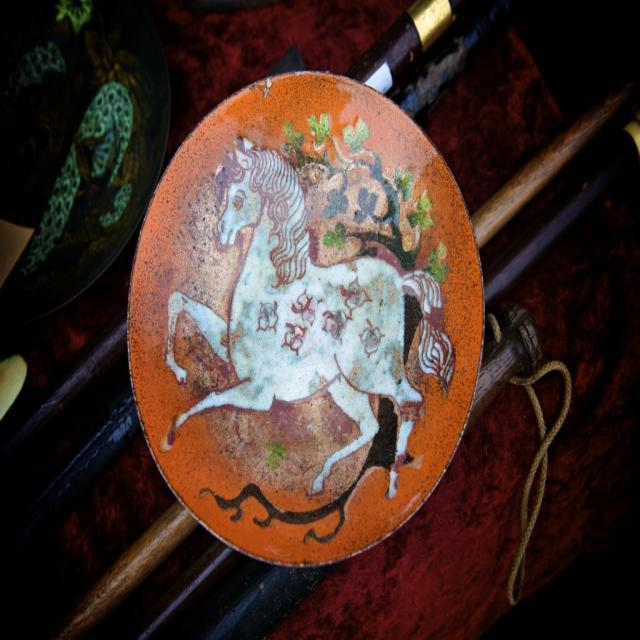ceramic plate: (126, 71, 476, 580)
